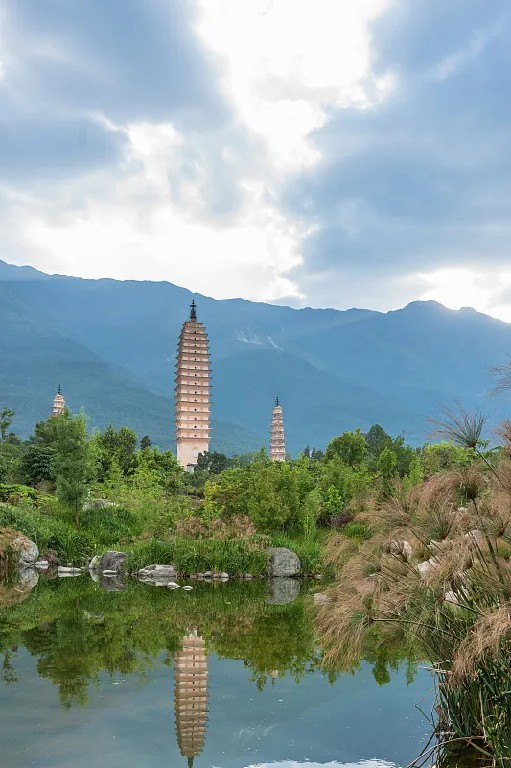ThreePagoda: (175, 297, 211, 467)
